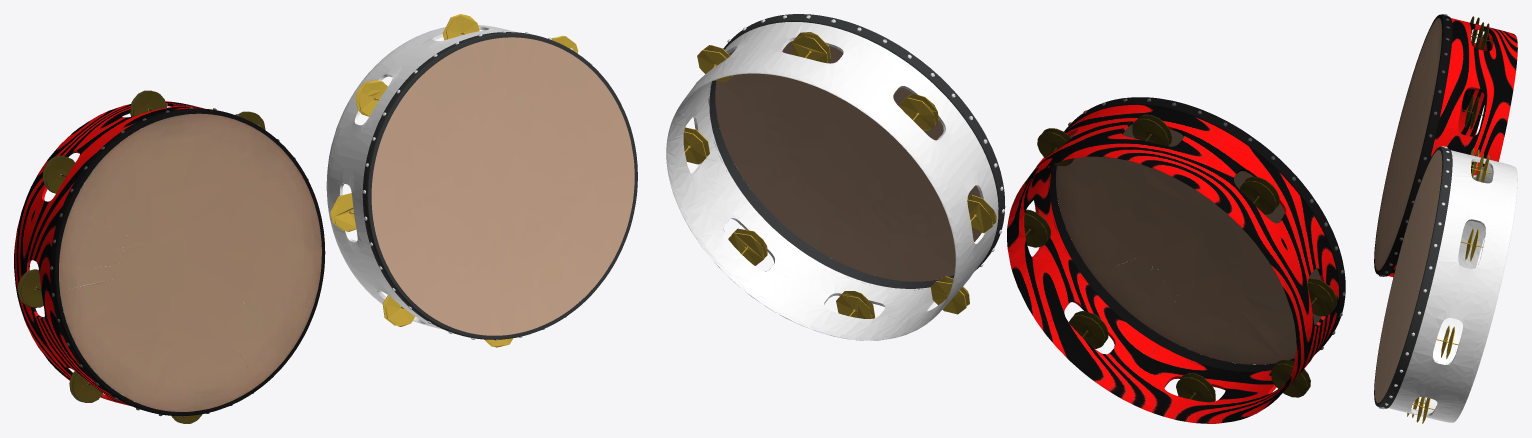
File: tambourine.glb
3 renders of one model, left to right at view 1: azimuth 30°, elevation 25°; view 2: azimuth 150°, elevation 25°; view 3: azimuth 270°, elevation 25°, orthographic. The views are drawn at different scales.
Visible parts, largest first — view 1: Cylinder.001_7, Cylinder_6; view 2: Cylinder.001_7, Cylinder_6; view 3: Cylinder_6, Cylinder.001_7.
Part boxes in pixels (<box>): Cylinder.001_7: <box>14,90,325,423</box>; Cylinder_6: <box>326,14,637,347</box>; Cylinder.001_7: <box>1007,97,1345,423</box>; Cylinder_6: <box>666,14,1005,340</box>; Cylinder_6: <box>1374,146,1517,423</box>; Cylinder.001_7: <box>1374,14,1517,276</box>.
Bounding box in the file's own units: 0.5197 × 0.2456 × 0.1227.
6 materials, 1 textured.
